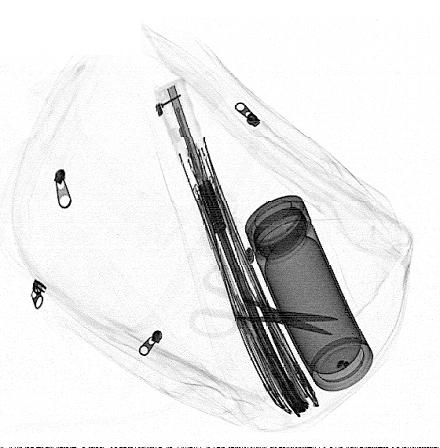Scissors: (189, 264, 339, 337)
